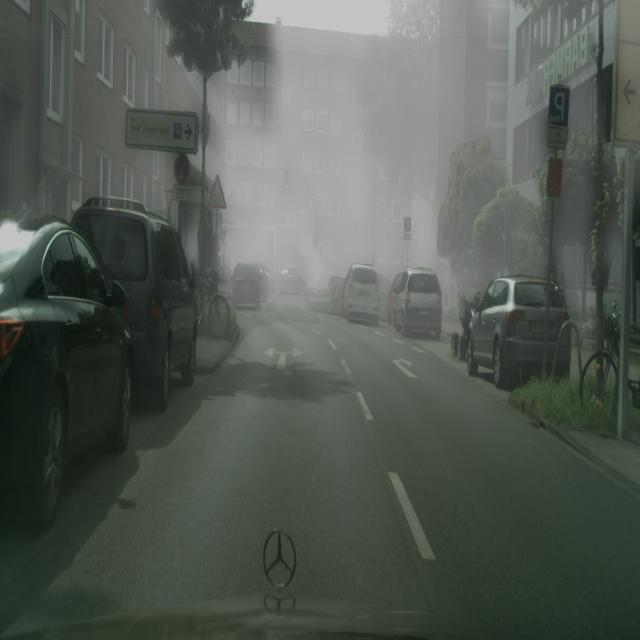bus: (1, 214, 134, 534), (72, 196, 198, 412), (466, 276, 571, 389), (394, 266, 442, 339), (342, 262, 380, 326), (232, 262, 262, 310), (274, 264, 306, 294), (387, 273, 402, 325)
car: (579, 301, 640, 414), (192, 268, 231, 339)
